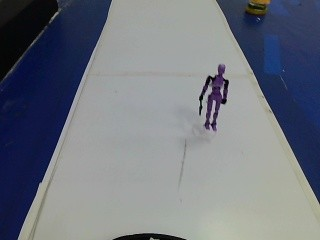burger: (239, 0, 271, 17)
pedestrian: (192, 59, 234, 136)
